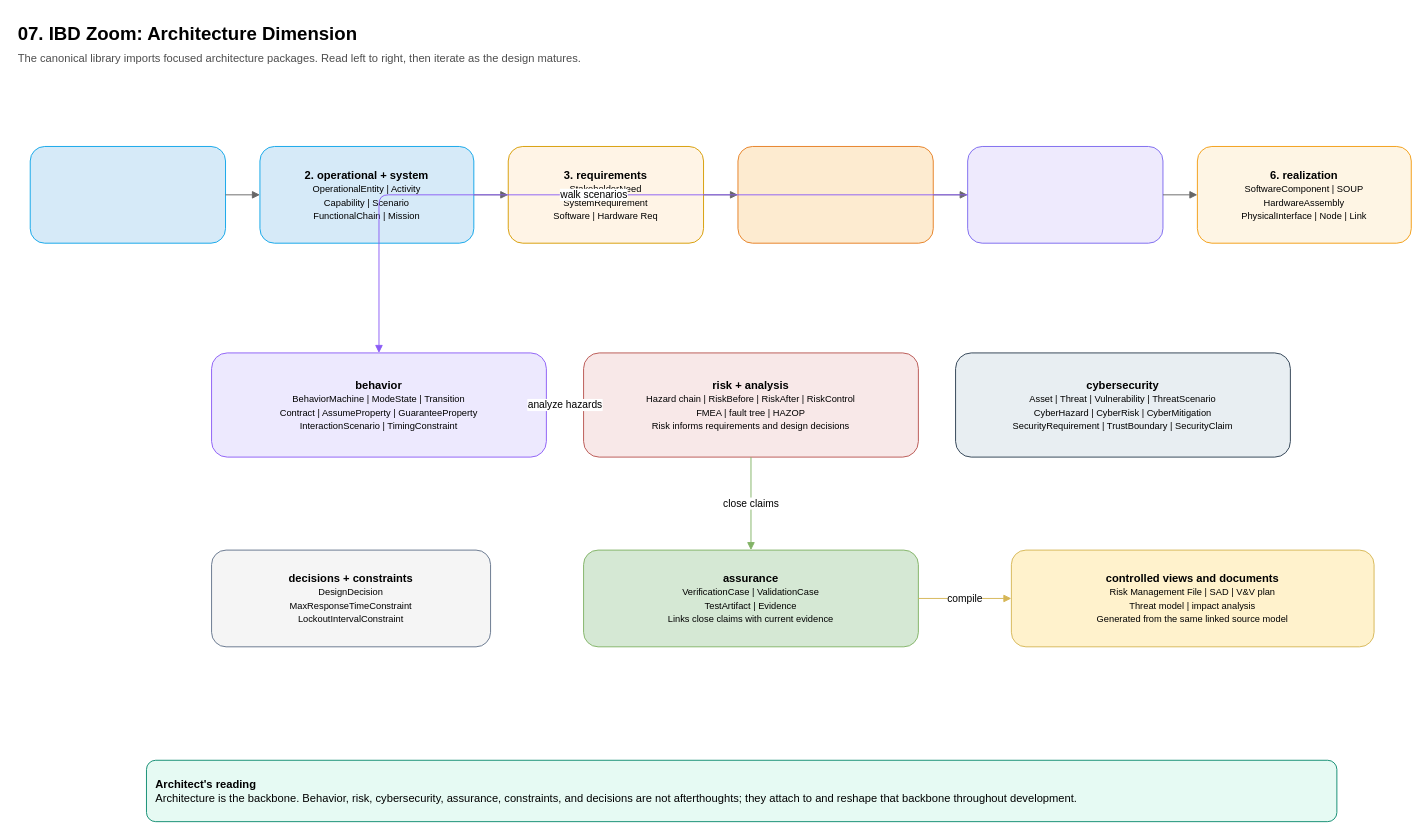
Some shapes in this 1428 by 838 pixel diagram are drawn without their labels. The shapes that lost their labels are listed below. From the top down, each one's box as (x1, y1, x2, y2) in pixels, then its label:
(29, 146, 226, 243): 1. context IntendedUse Actor | UseContext UseError
(737, 146, 933, 243): 4. functions LogicalFunction | LogicalFlow DataDefinition ControlDefinition
(967, 146, 1163, 243): 5. logical design LogicalComponent LogicalInterface ComponentExchange
